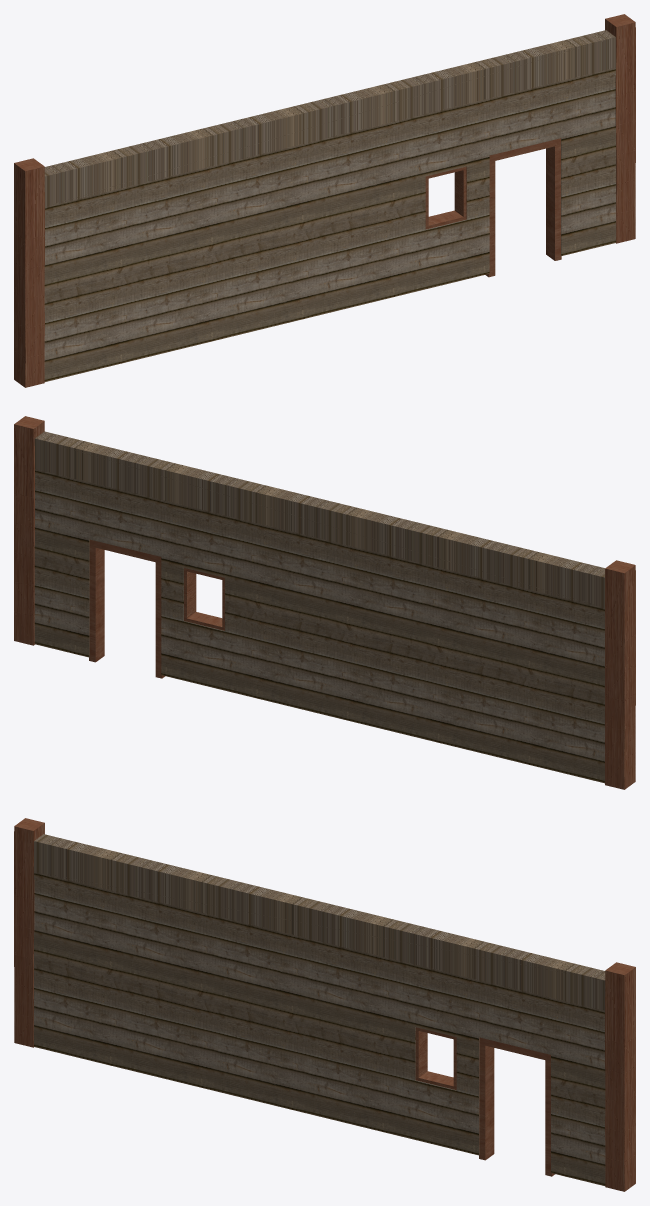
File: R1_depan.fbx
3 renders of one model, top to bottom at view 1: azimuth 30°, elevation 25°; view 2: azimuth 150°, elevation 25°; view 3: azimuth 330°, elevation 25°, orthographic.
Parts seen in each view (by area): view 1: R3; view 2: R3; view 3: R3.
Part boxes in pixels (x1=…): R3: x1=14, y1=14, x2=635, y2=387; R3: x1=14, y1=416, x2=635, y2=789; R3: x1=14, y1=818, x2=635, y2=1191.
Bounding box in the file's own units: 25.53 × 8.78 × 0.8348.
2 materials, 2 textured.
